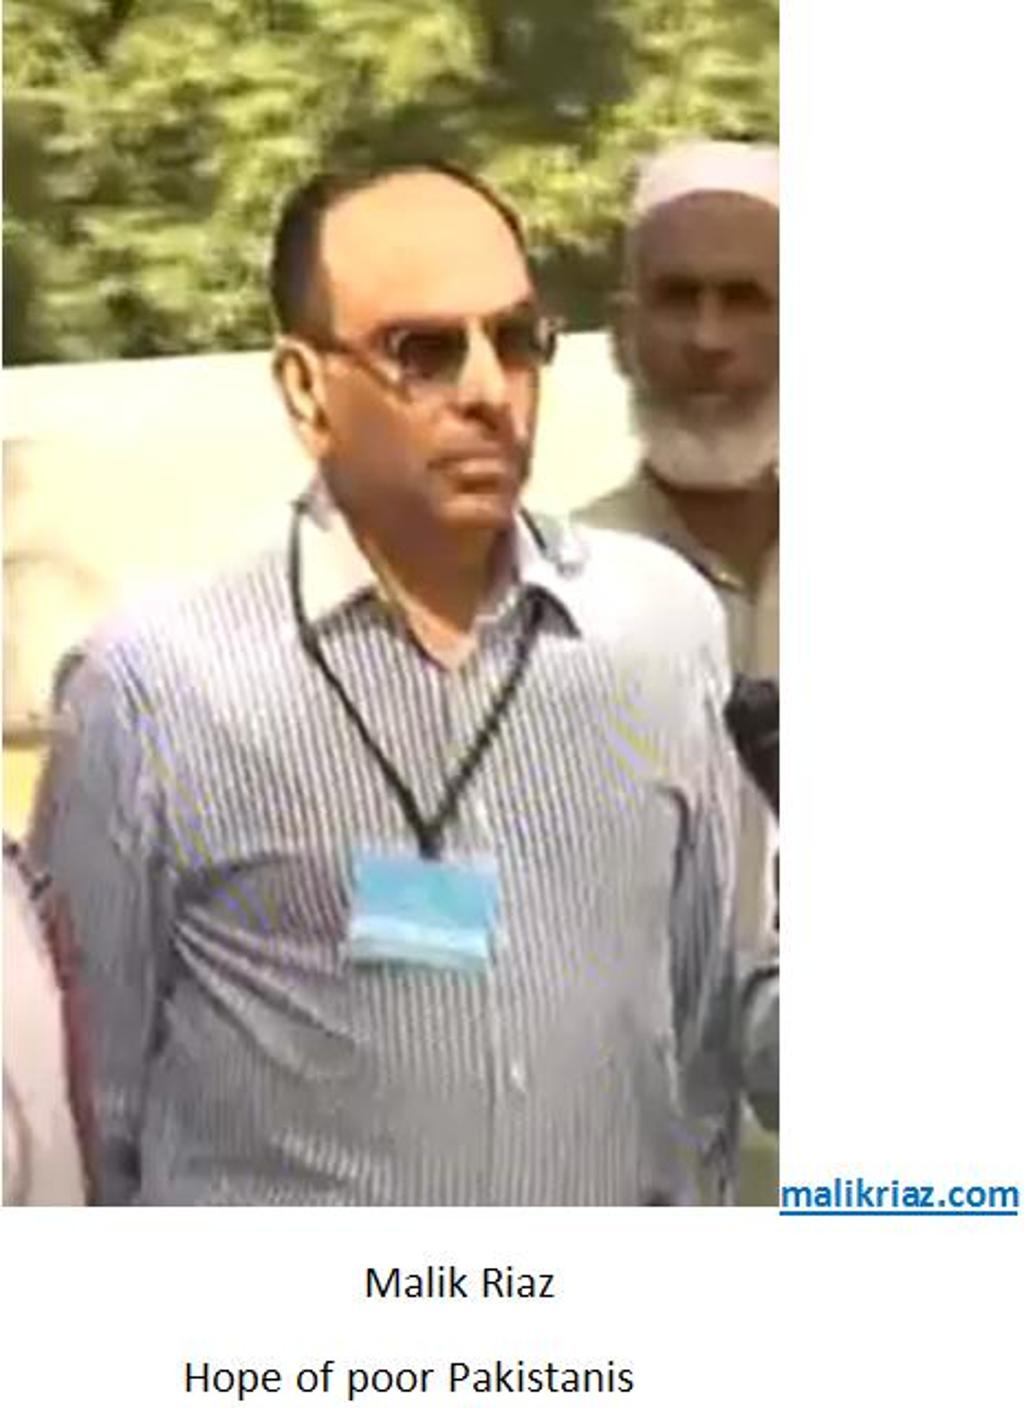face: (324, 176, 544, 527), (640, 206, 777, 456)
